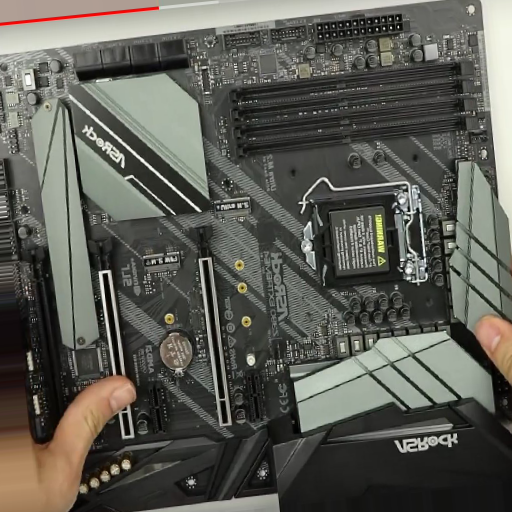CPU: (302, 192, 413, 286)
GPU: (86, 238, 138, 441), (186, 223, 235, 428), (19, 244, 68, 438)
MOTHERBOARD: (1, 2, 506, 504)
RAM: (227, 58, 481, 158)
SSD: (212, 195, 254, 222), (140, 250, 182, 277)
